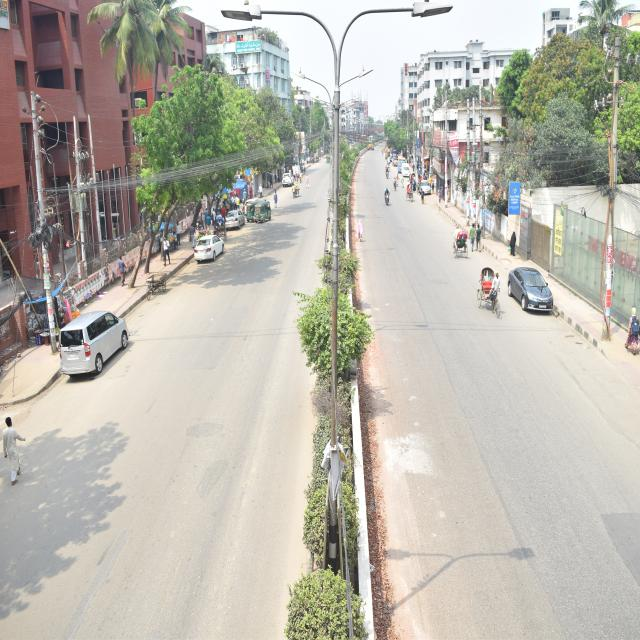car: (14, 271, 155, 412), (494, 241, 580, 335), (191, 213, 240, 284), (208, 193, 254, 241), (416, 168, 450, 232), (272, 159, 300, 206), (400, 159, 421, 192)
motorbike: (378, 173, 394, 210), (383, 164, 394, 182)
pickup-van: (286, 149, 310, 186), (396, 151, 412, 173)
